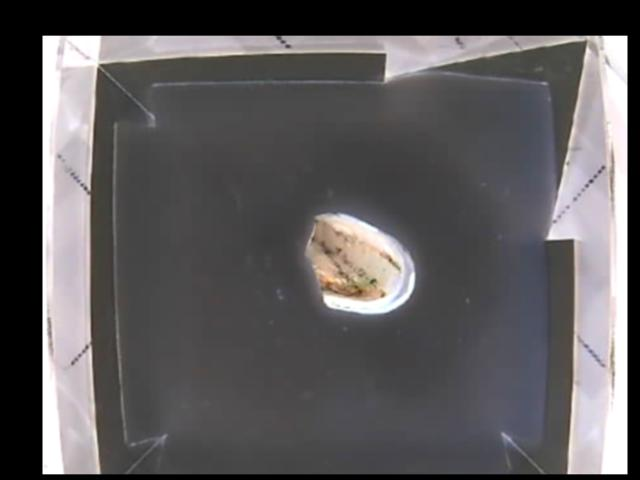Shell: (305, 211, 415, 313)
